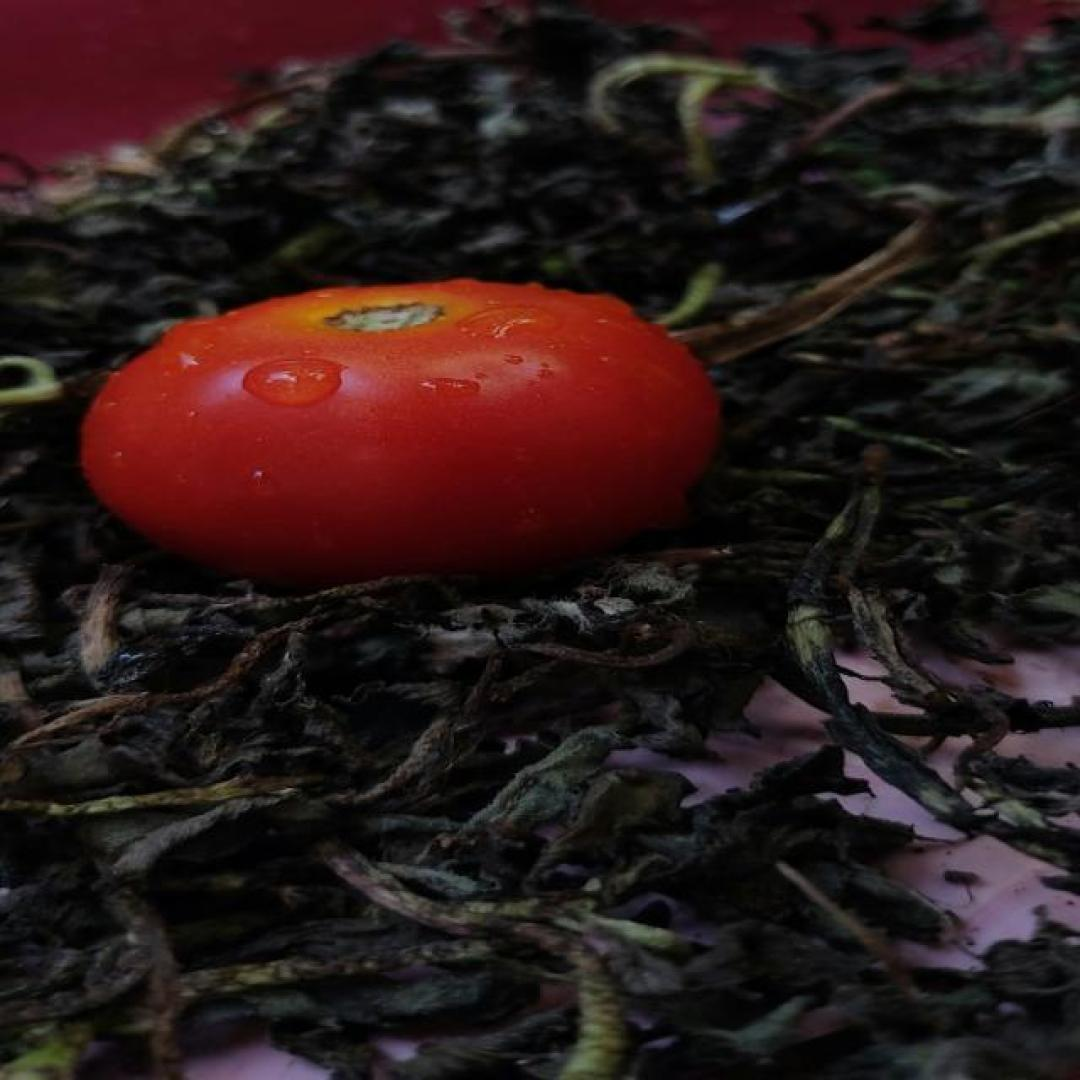matang: (79, 280, 720, 594)
